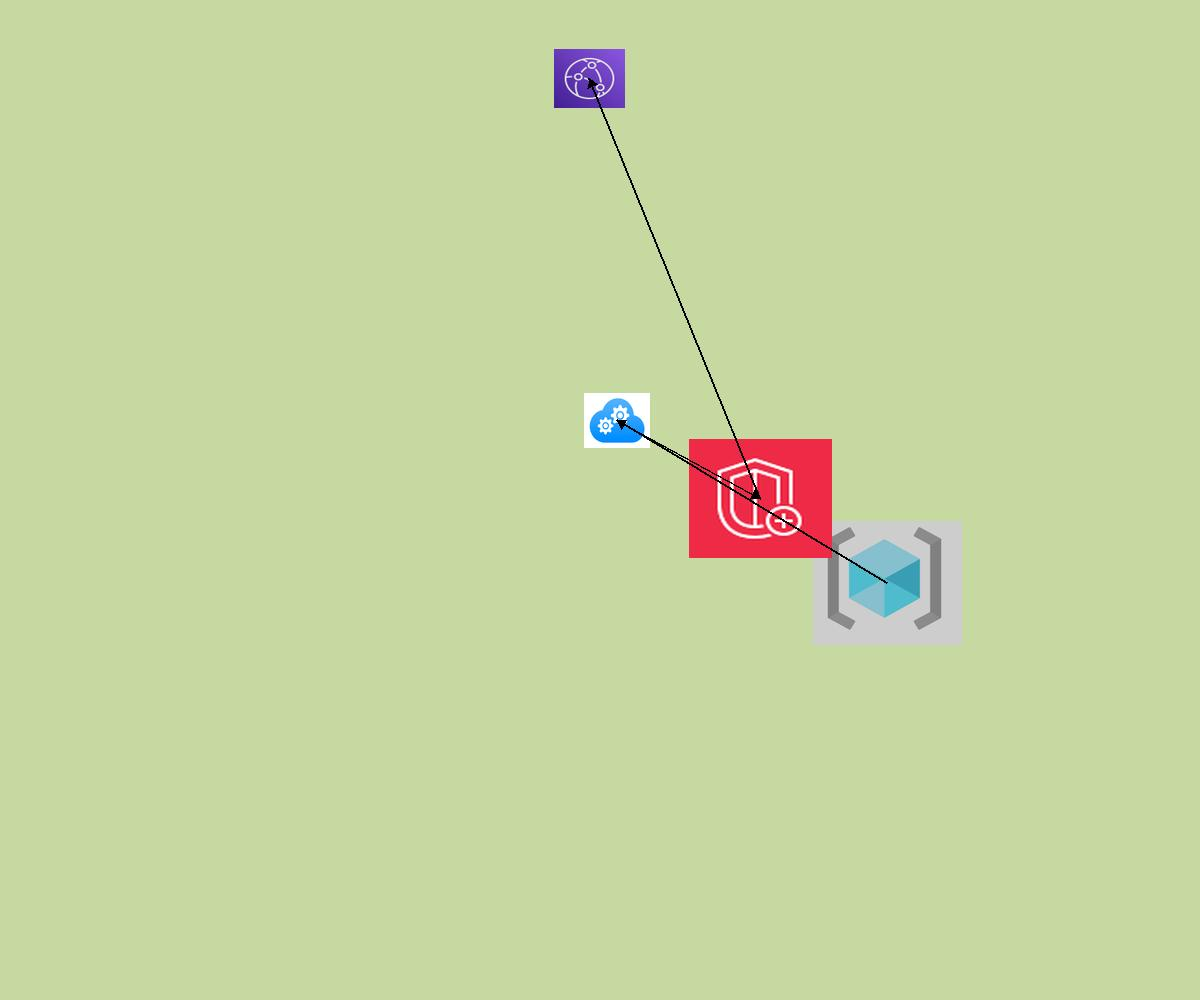AWS-CloudFront: (554, 49, 625, 108)
AWS-Shield: (689, 439, 832, 558)
Azure_cloud_services: (584, 393, 650, 448)
Azure_resource_group: (813, 521, 962, 645)
